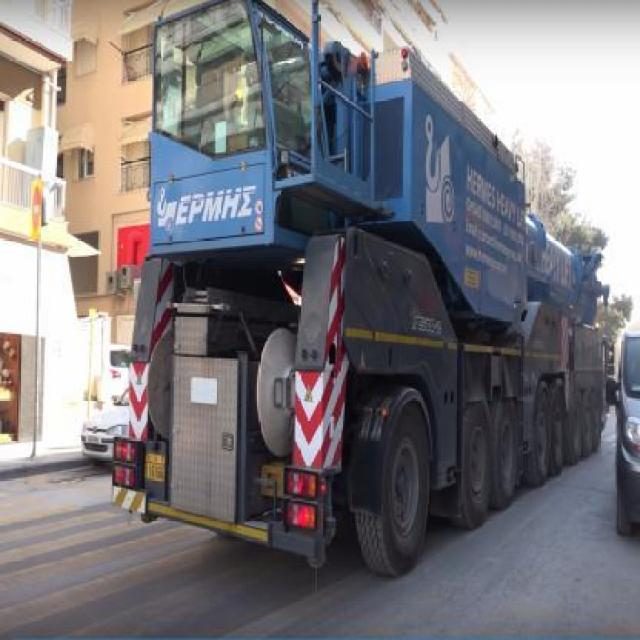Mobile Crane: (109, 0, 606, 582)
